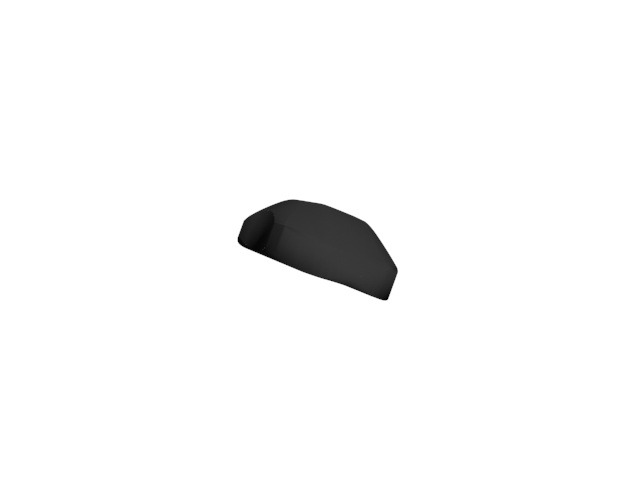mouse: (233, 193, 400, 304)
